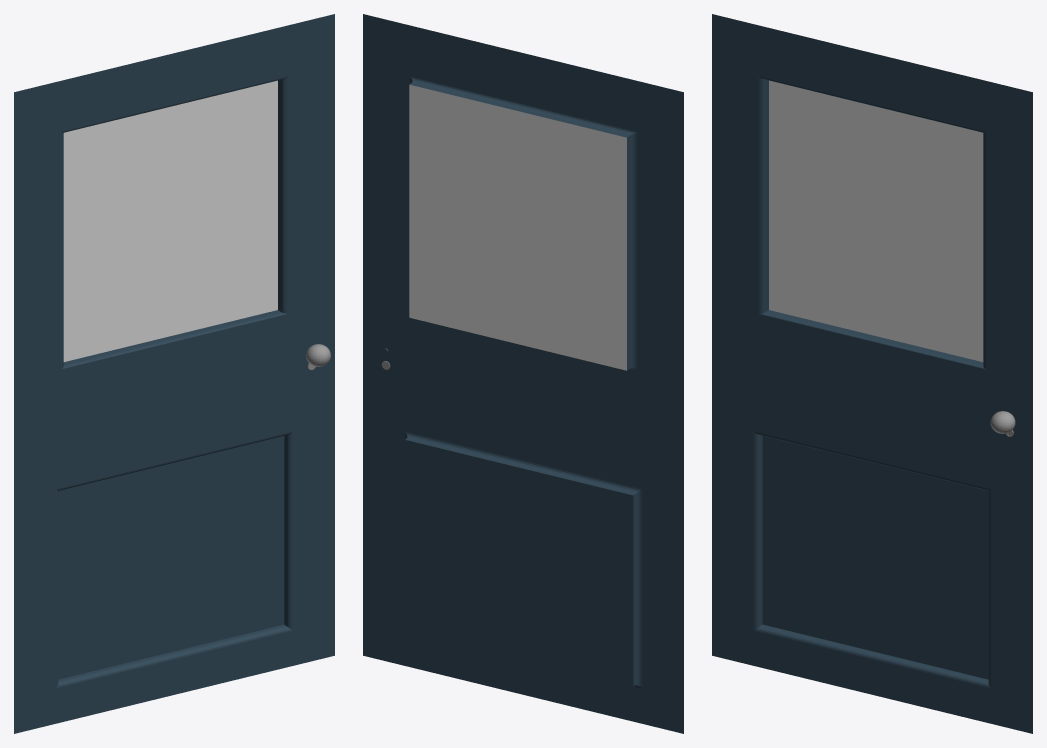
3 renders of one model, left to right at view 1: azimuth 30°, elevation 25°; view 2: azimuth 150°, elevation 25°; view 3: azimuth 330°, elevation 25°, orthographic.
Visible parts, largest first — view 1: Cube.018; view 2: Cube.018; view 3: Cube.018.
Part boxes in pixels (x1=…): Cube.018: x1=14, y1=14, x2=334, y2=733; Cube.018: x1=363, y1=14, x2=683, y2=733; Cube.018: x1=712, y1=14, x2=1032, y2=733.
Bounding box in the file's own units: 133 × 255 × 13.14.
